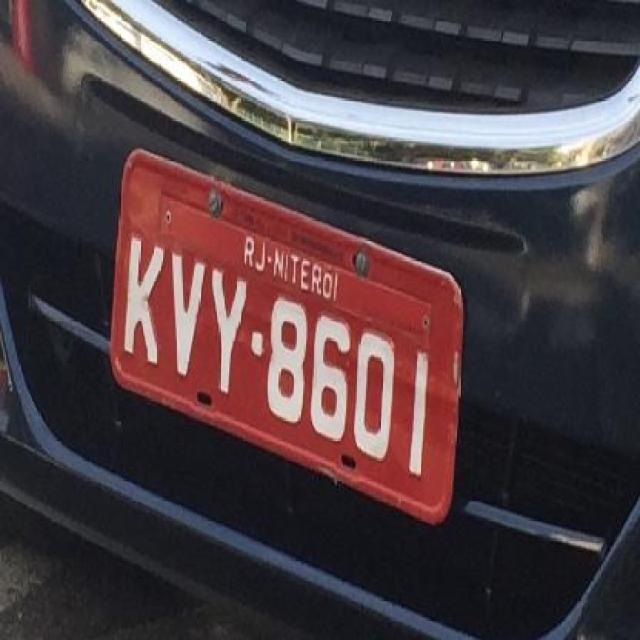old_plate: (105, 142, 474, 534)
